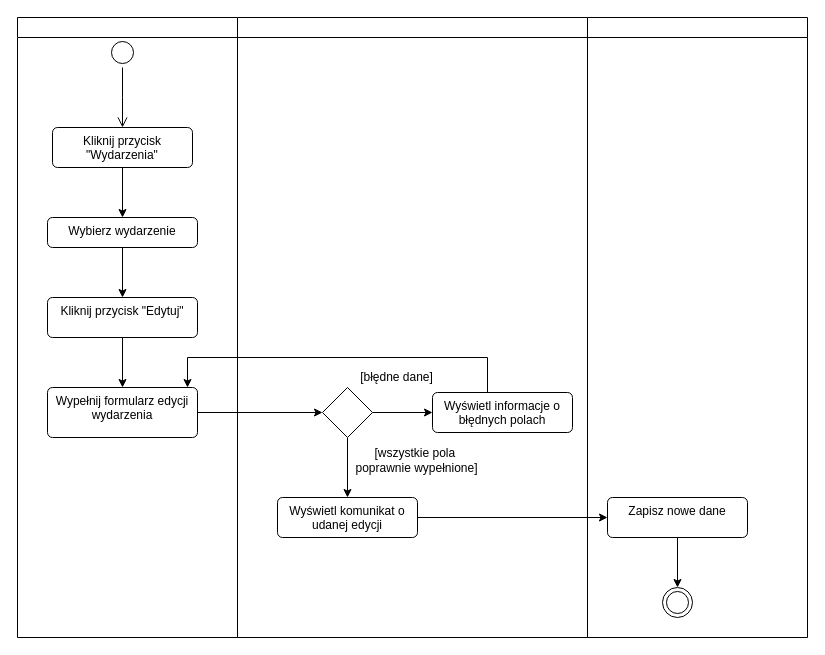
This 825x655 diagram has some shape labels left out. The shapes that lost their labels are listed below. From the top down, each one's box as (x1, y1, x2, y2) in pixels, then its label:
(16, 16, 238, 638): Użytkownik
(236, 16, 588, 638): System
(586, 16, 808, 638): Serwer
